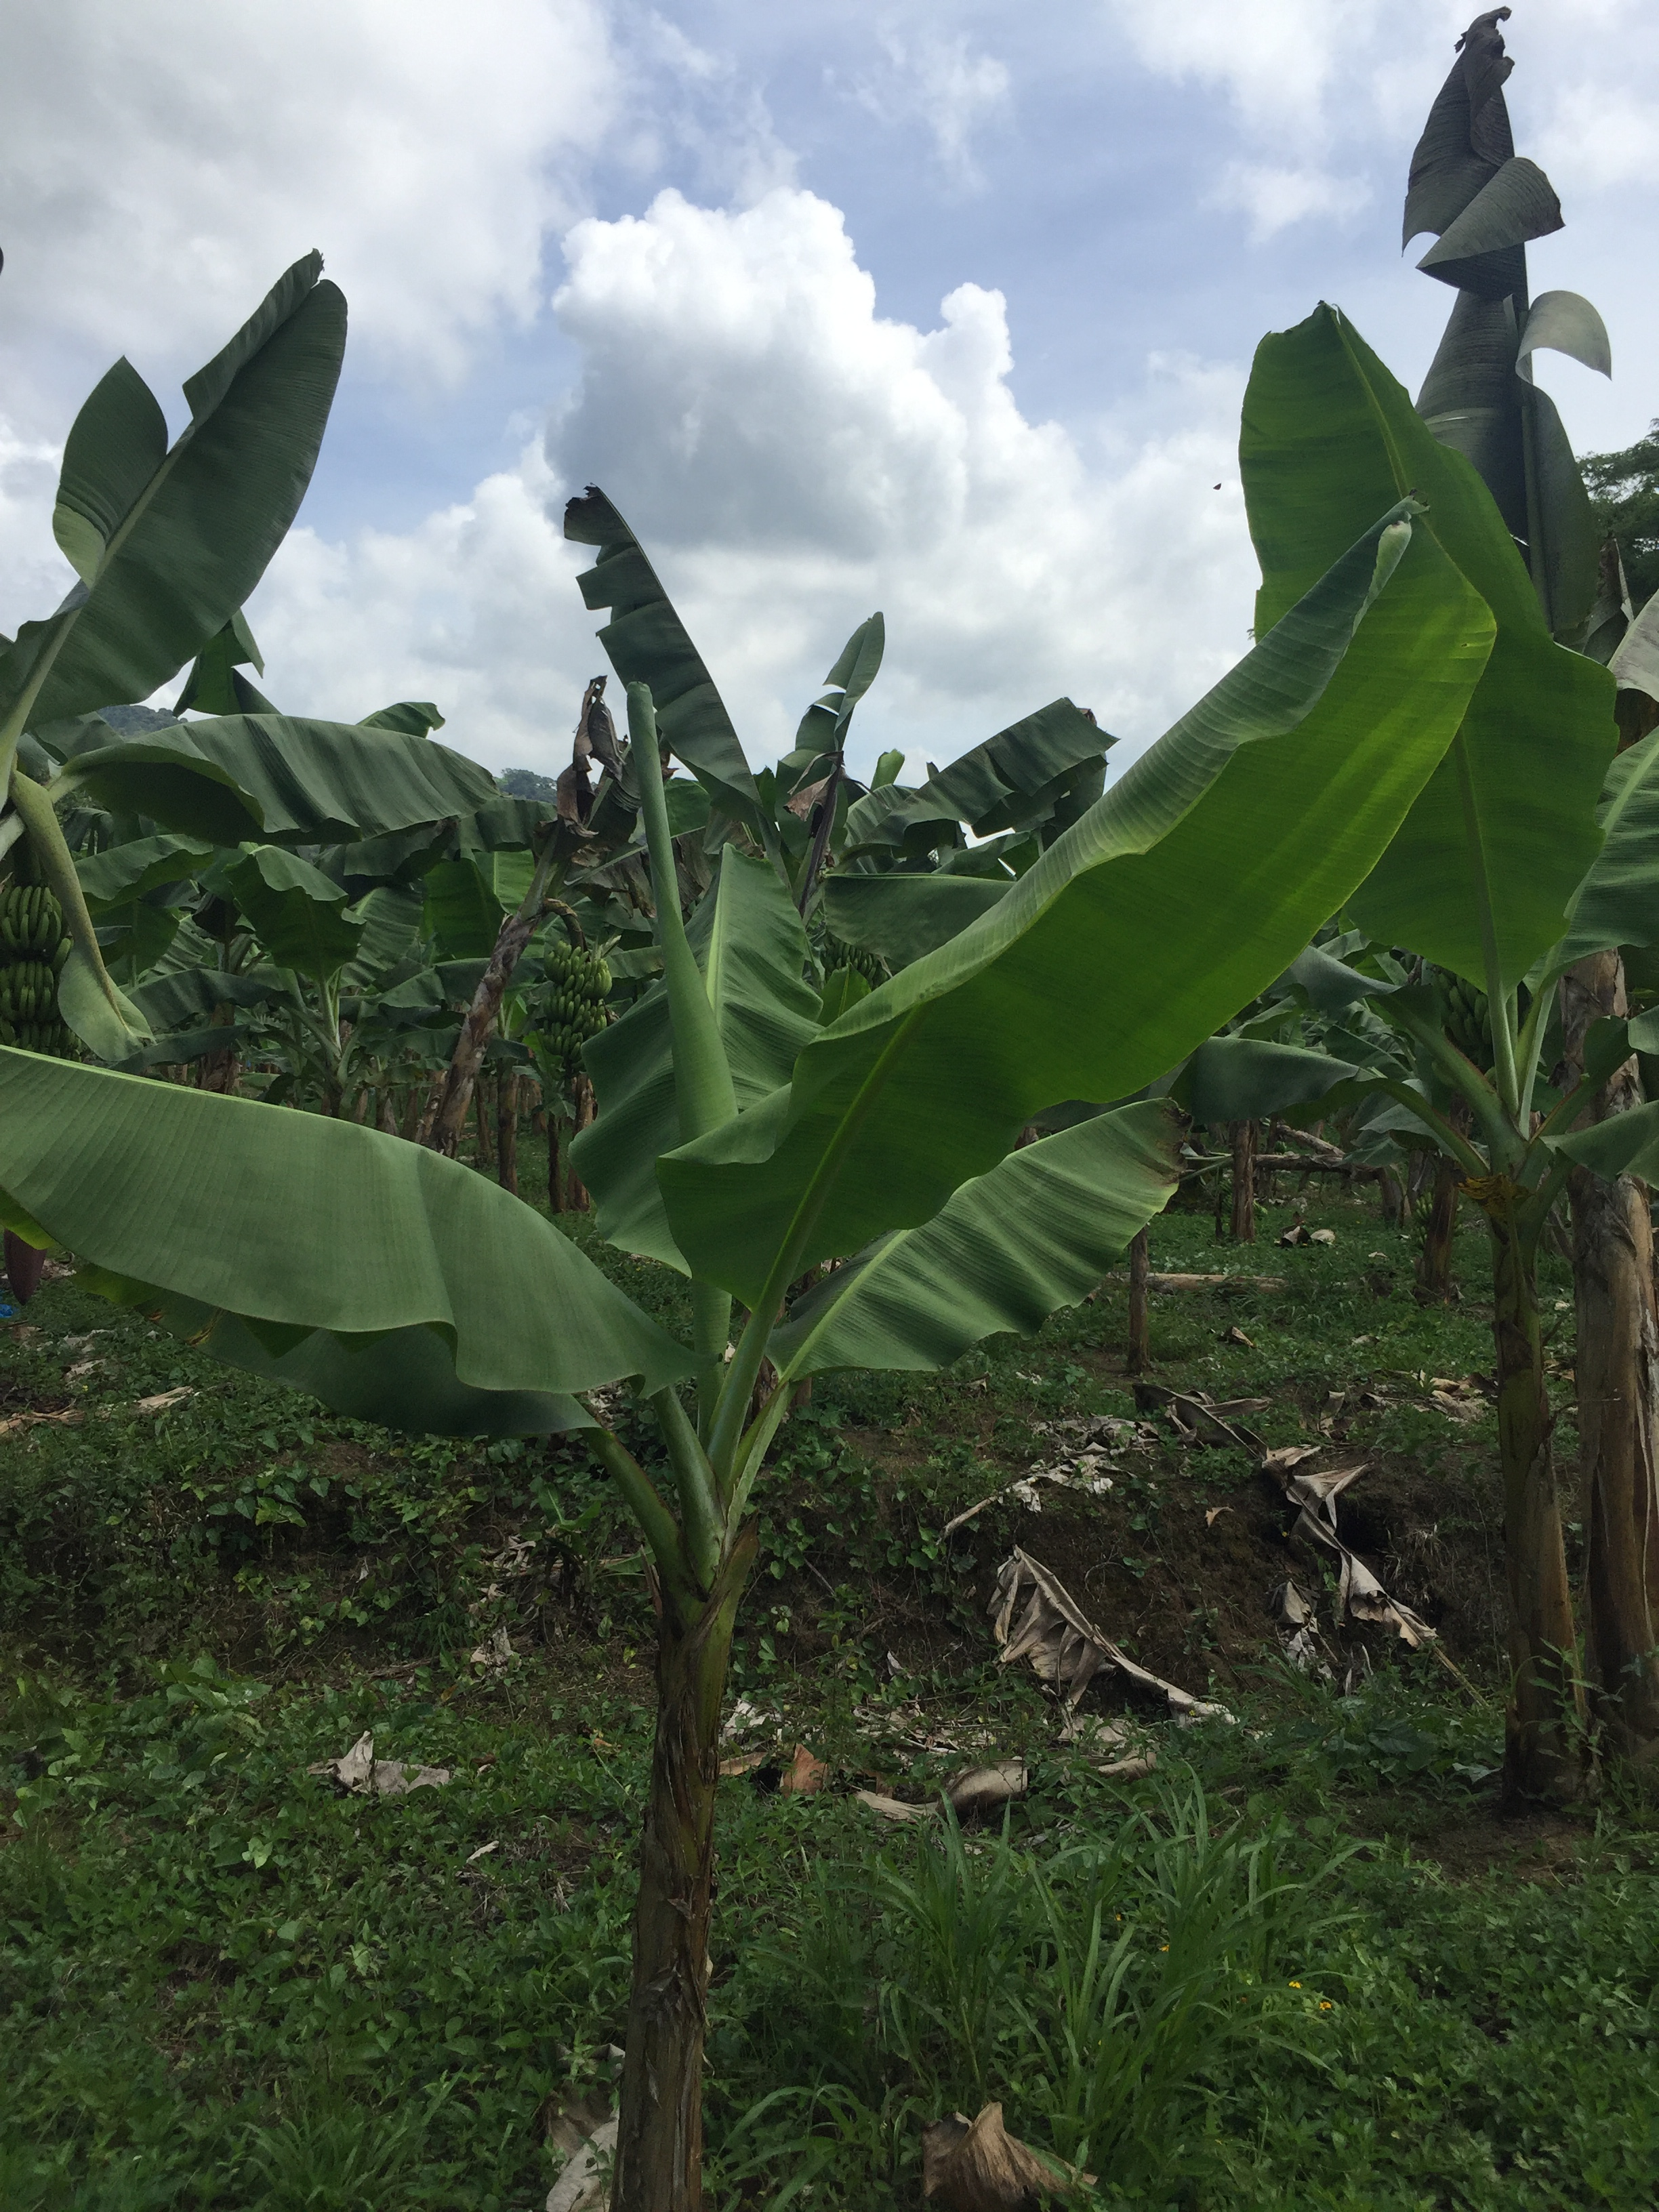candleleafs: (626, 681, 742, 1137)
